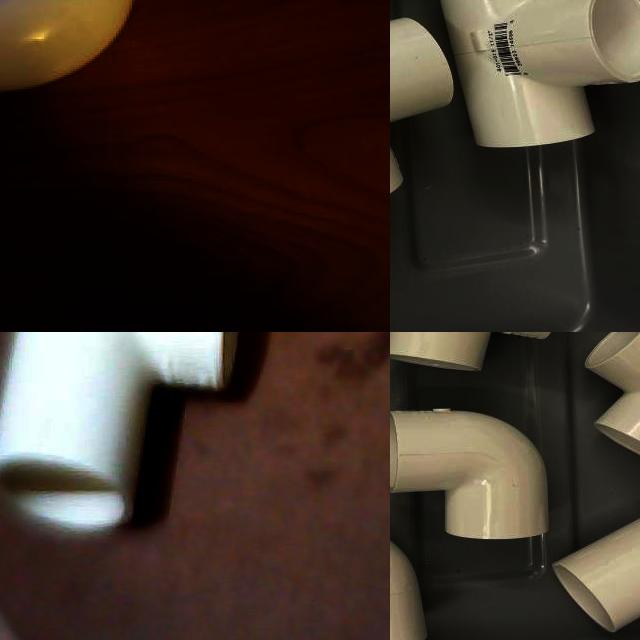L Joint: (390, 408, 550, 543), (584, 332, 640, 459)
